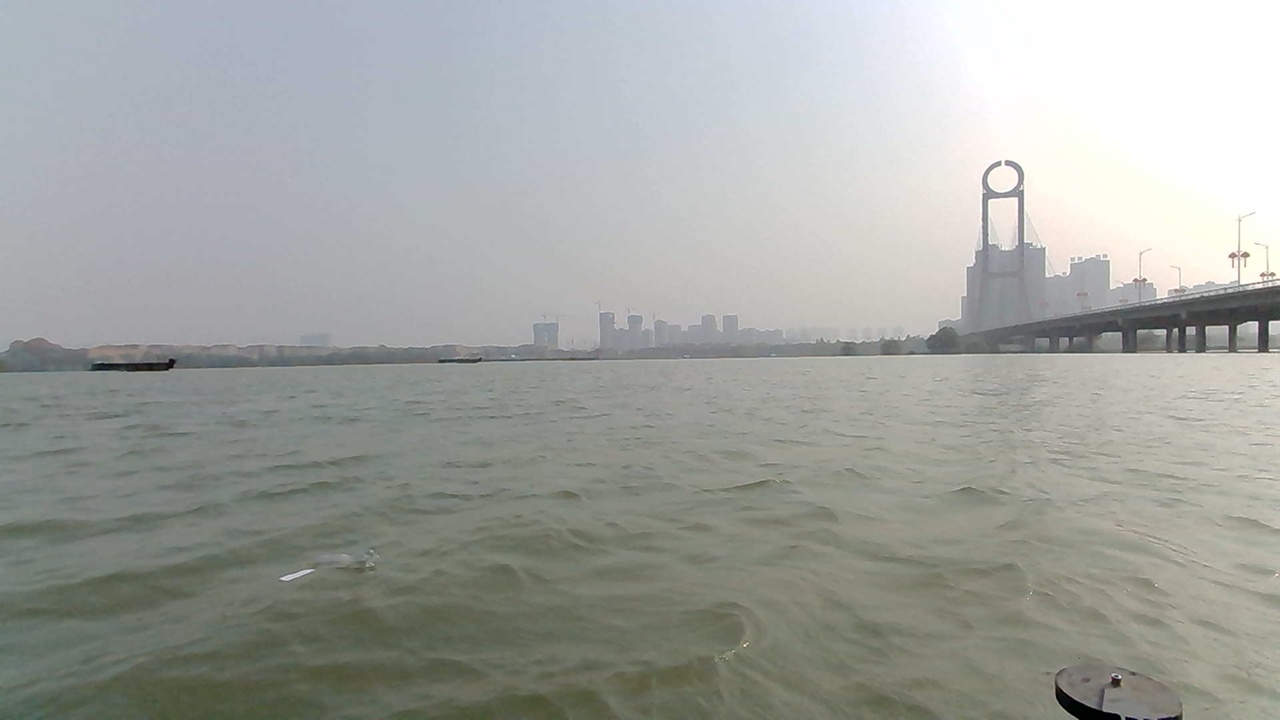bottle: (263, 520, 392, 598)
